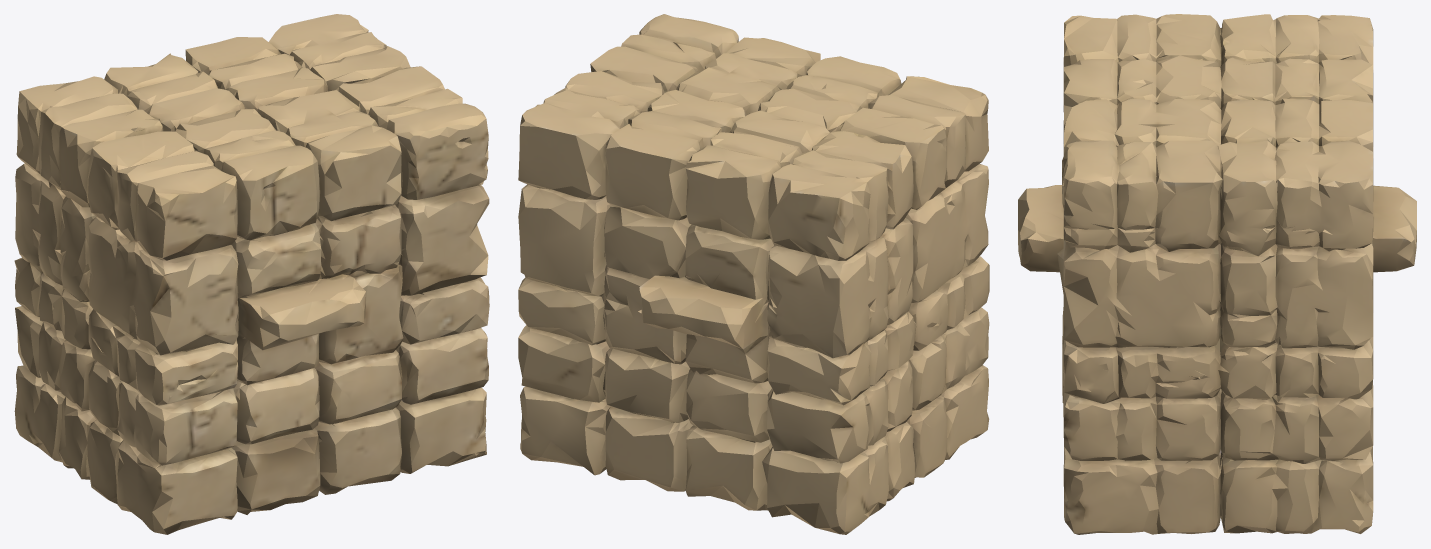
Rendered from weathered_stone_block.glb.
3 renders of one model, left to right at view 1: azimuth 30°, elevation 25°; view 2: azimuth 150°, elevation 25°; view 3: azimuth 270°, elevation 25°, orthographic. The views are drawn at different scales.
Parts seen in each view (by area): view 1: weathered_stone_block; view 2: weathered_stone_block; view 3: weathered_stone_block.
Part boxes in pixels (x1,y1,x2,y2): weathered_stone_block: (14, 14, 489, 534); weathered_stone_block: (518, 14, 989, 534); weathered_stone_block: (1018, 14, 1416, 534).
Bounding box in the file's own units: 1.89 × 1.85 × 1.87.
1 material, 1 textured.
